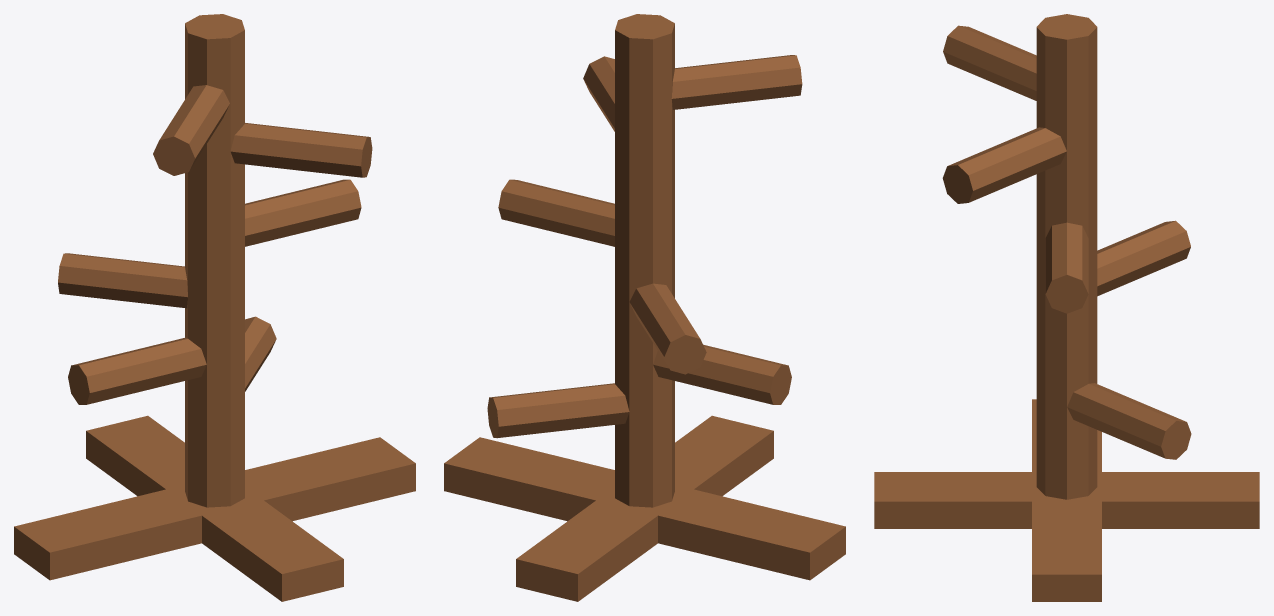
Rendered from Dummy.fbx.
The picture shows the model from 3 angles, left to right: view 1: azimuth 30°, elevation 25°; view 2: azimuth 150°, elevation 25°; view 3: azimuth 270°, elevation 25°; orthographic projection.
Visible parts, largest first — view 1: Dummy; view 2: Dummy; view 3: Dummy.
Boxes of the visible parts, <box> form: Dummy: <box>14,14,415,601</box>; Dummy: <box>444,14,845,601</box>; Dummy: <box>874,14,1259,601</box>.
Size of the model in its own units: 267 by 346 by 248.
